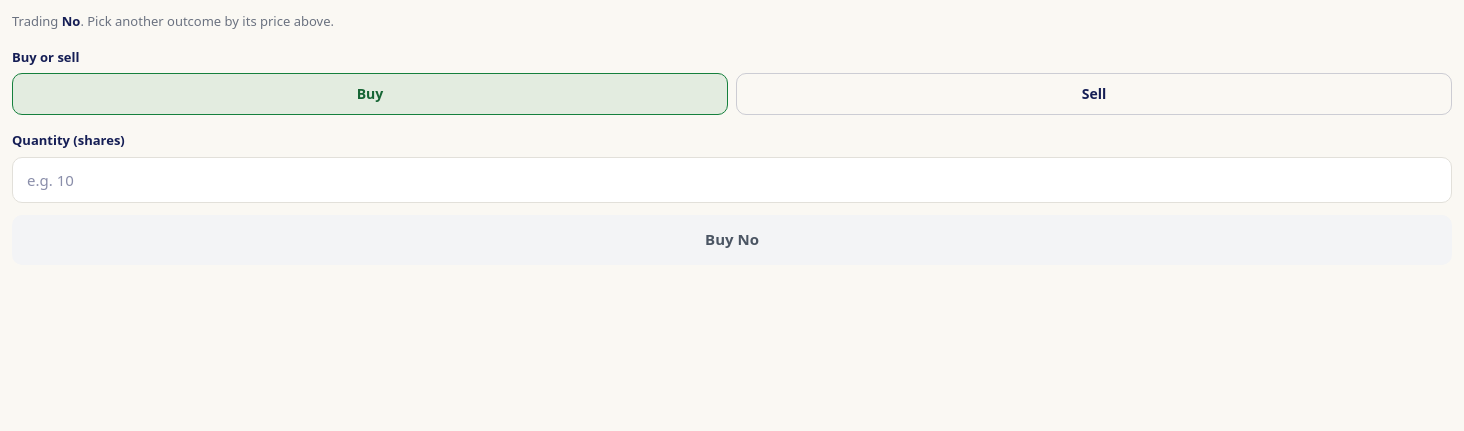
Test: TradingPanel › shows how the trade moves the selected outcome's price
In the number field labelled "Quantity (shares)": (732, 180) [12,156,1452,202], type "10"
Wait 300 ms
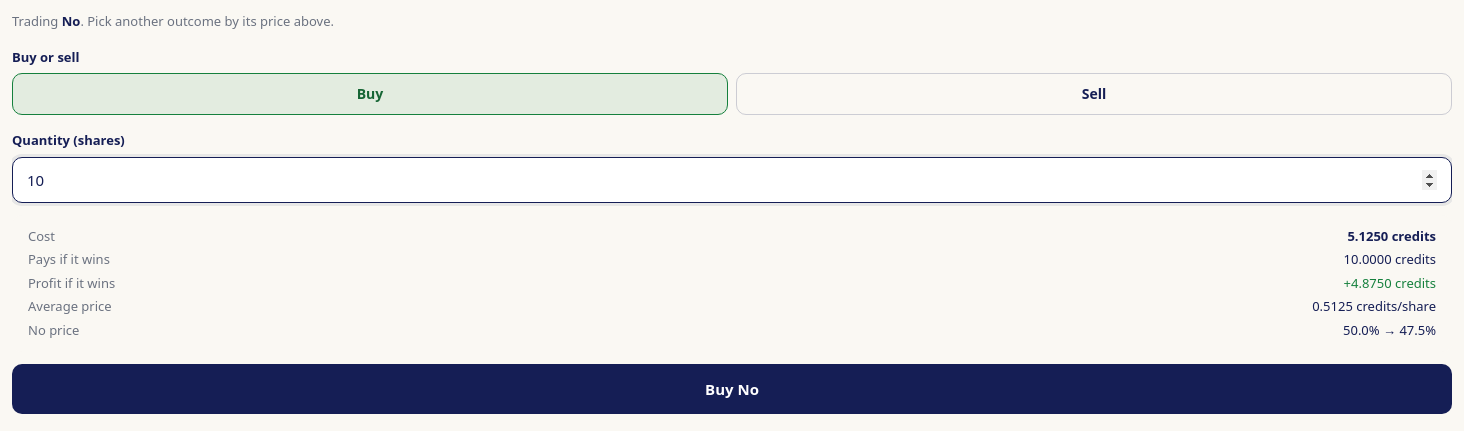
Now the element named "trade preview" shows "50.0% → 47.5%", box [12,214,1452,352]
